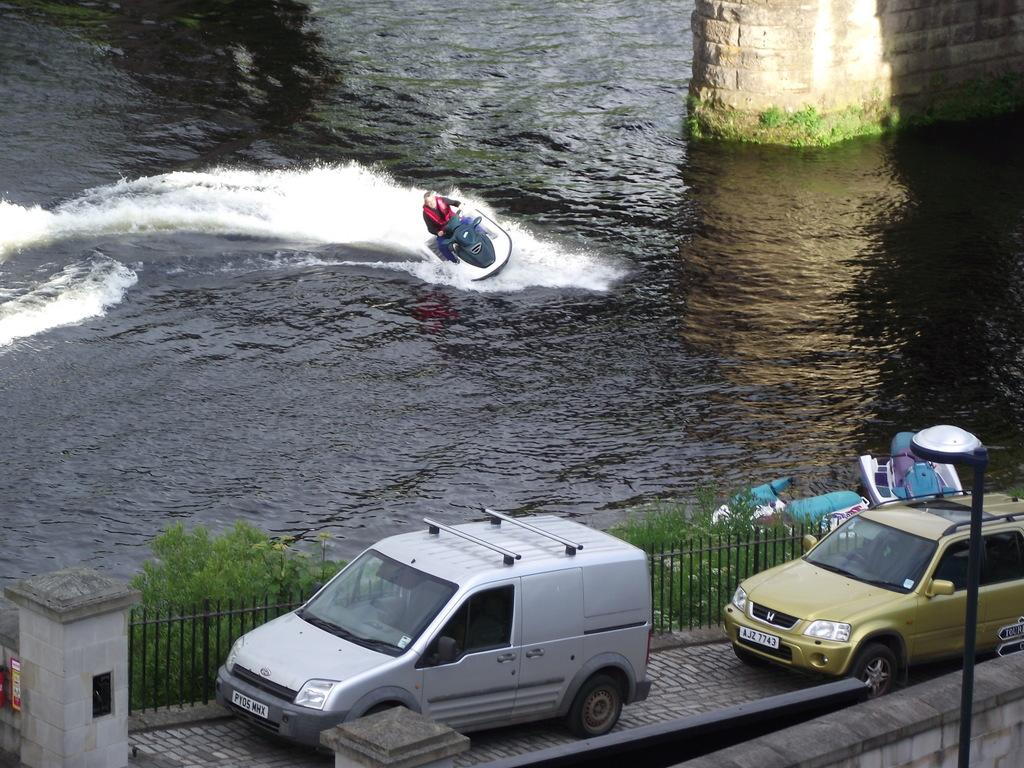vehicle: (217, 513, 653, 754), (718, 489, 1024, 699)
